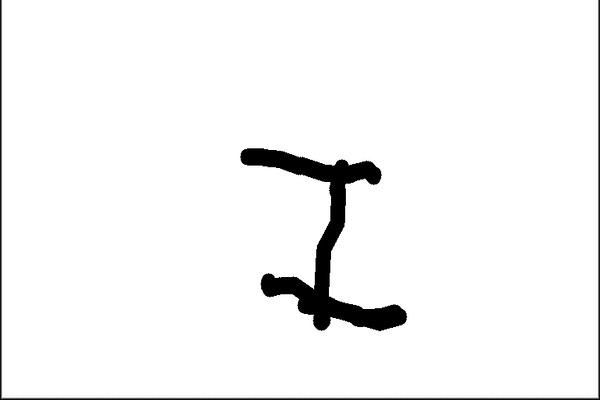i: (224, 136, 423, 337)
